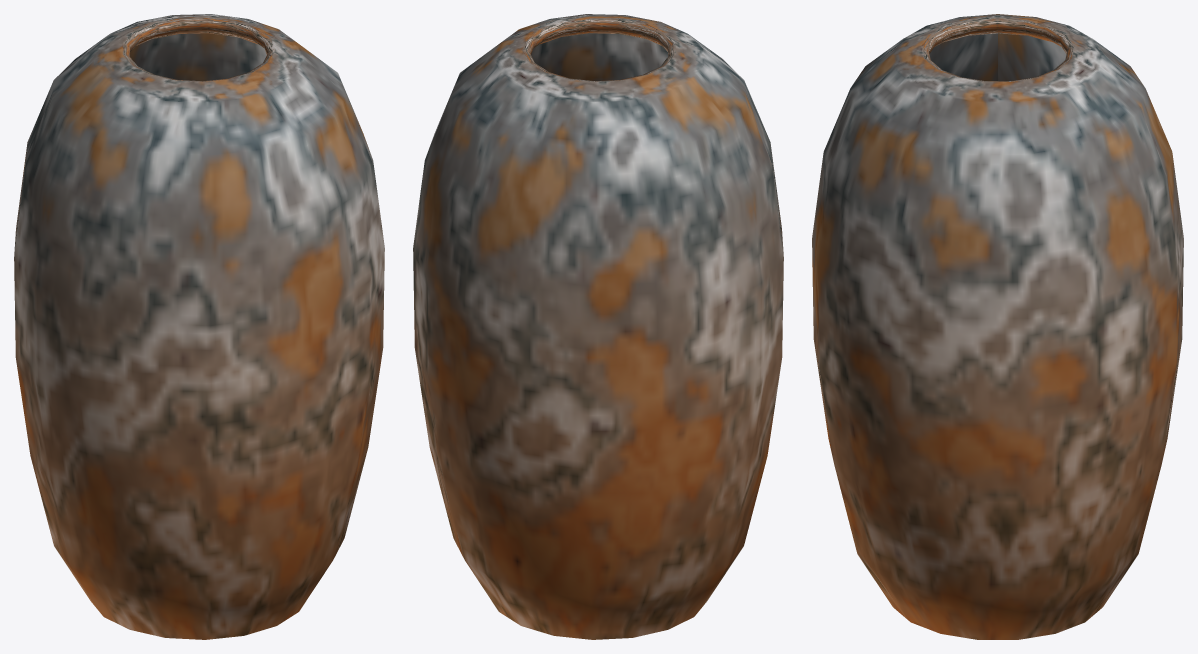
Rendered from Vase_Marble_Oval_Open.fbx.
3 renders of one model, left to right at view 1: azimuth 30°, elevation 25°; view 2: azimuth 150°, elevation 25°; view 3: azimuth 270°, elevation 25°, orthographic.
Parts seen in each view (by area): view 1: Vase_Marble_Oval_Open; view 2: Vase_Marble_Oval_Open; view 3: Vase_Marble_Oval_Open.
Boxes of the visible parts, box(x1,y1,x2,y2) form: Vase_Marble_Oval_Open: box(14, 14, 384, 639); Vase_Marble_Oval_Open: box(413, 14, 783, 639); Vase_Marble_Oval_Open: box(812, 14, 1183, 639).
Size of the model in its own units: 56.57 by 94.11 by 56.82.
